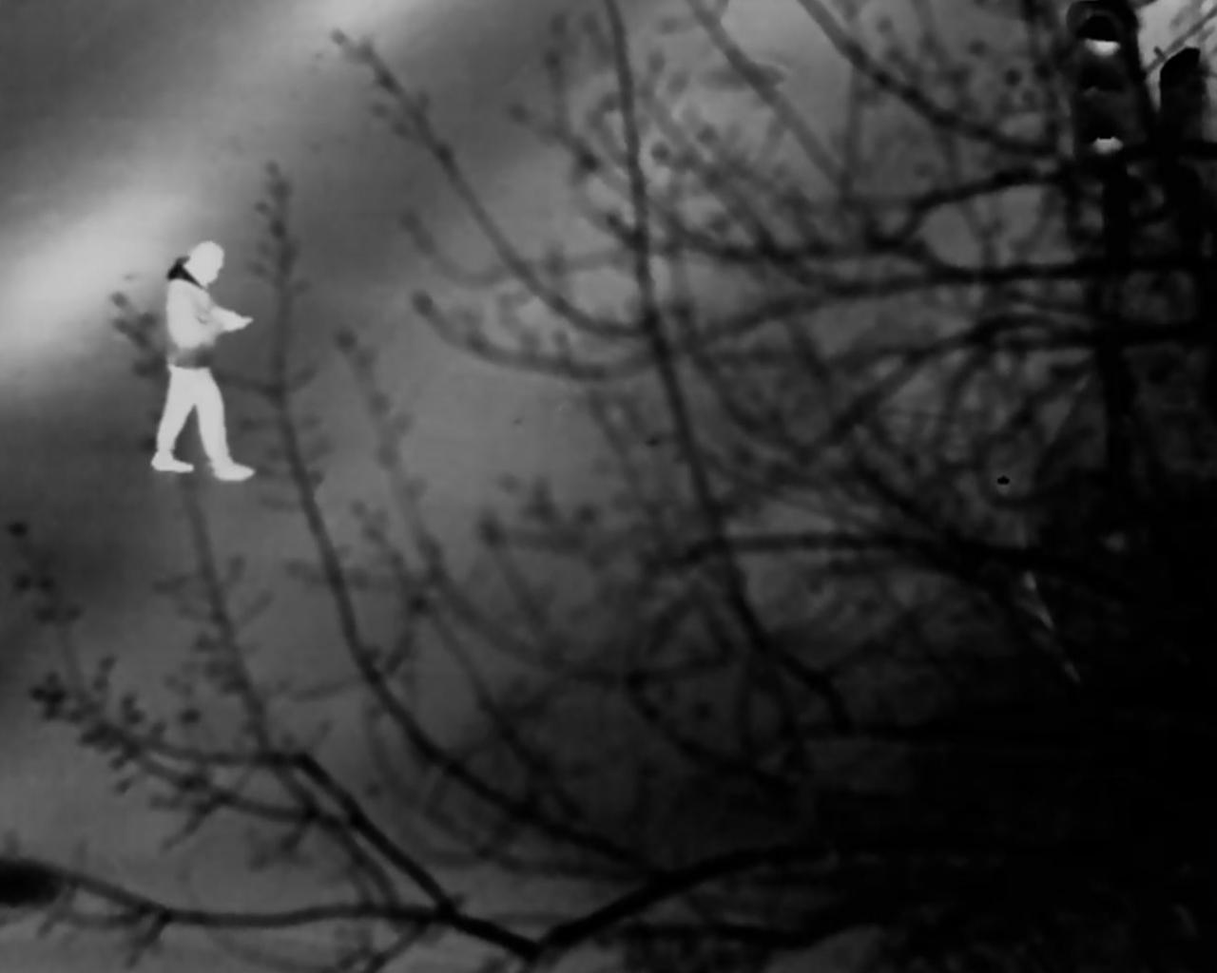person: (148, 237, 260, 483)
